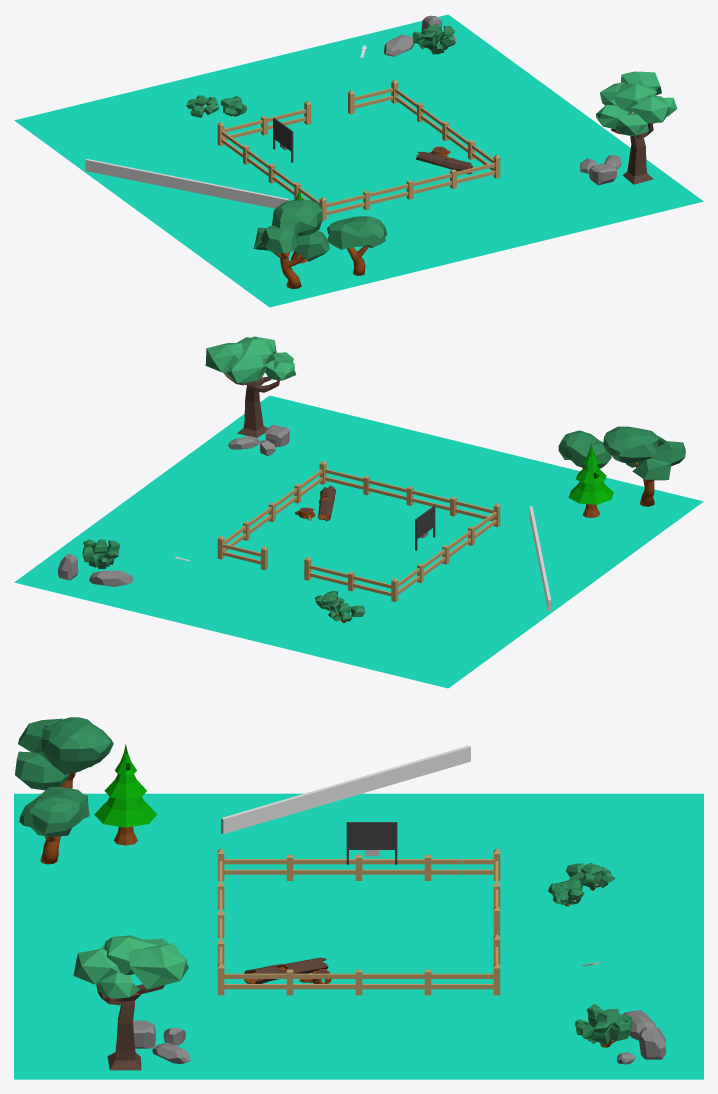
Rendered from region-0.glb.
3 views of the same model, one above another, from view 1: azimuth 30°, elevation 25°; view 2: azimuth 150°, elevation 25°; view 3: azimuth 270°, elevation 25° (orthographic). The views are drawn at different scales.
Visible parts, largest first — view 1: rock-6.2237, fence, info-board-assembly-large; view 2: rock-6.2237, fence, info-board-assembly-large; view 3: rock-6.2237, fence, info-board-assembly-large.
Boxes of the visible parts, x1,y1,x2,y2 form: rock-6.2237: (14, 14, 703, 307); fence: (85, 159, 288, 208); info-board-assembly-large: (273, 118, 293, 162); rock-6.2237: (14, 336, 703, 688); fence: (529, 506, 551, 611); info-board-assembly-large: (415, 506, 435, 550); rock-6.2237: (14, 717, 703, 1079); fence: (221, 745, 470, 834); info-board-assembly-large: (346, 822, 397, 864).
Size of the model in its own units: 31.06 by 6.13 by 30.
